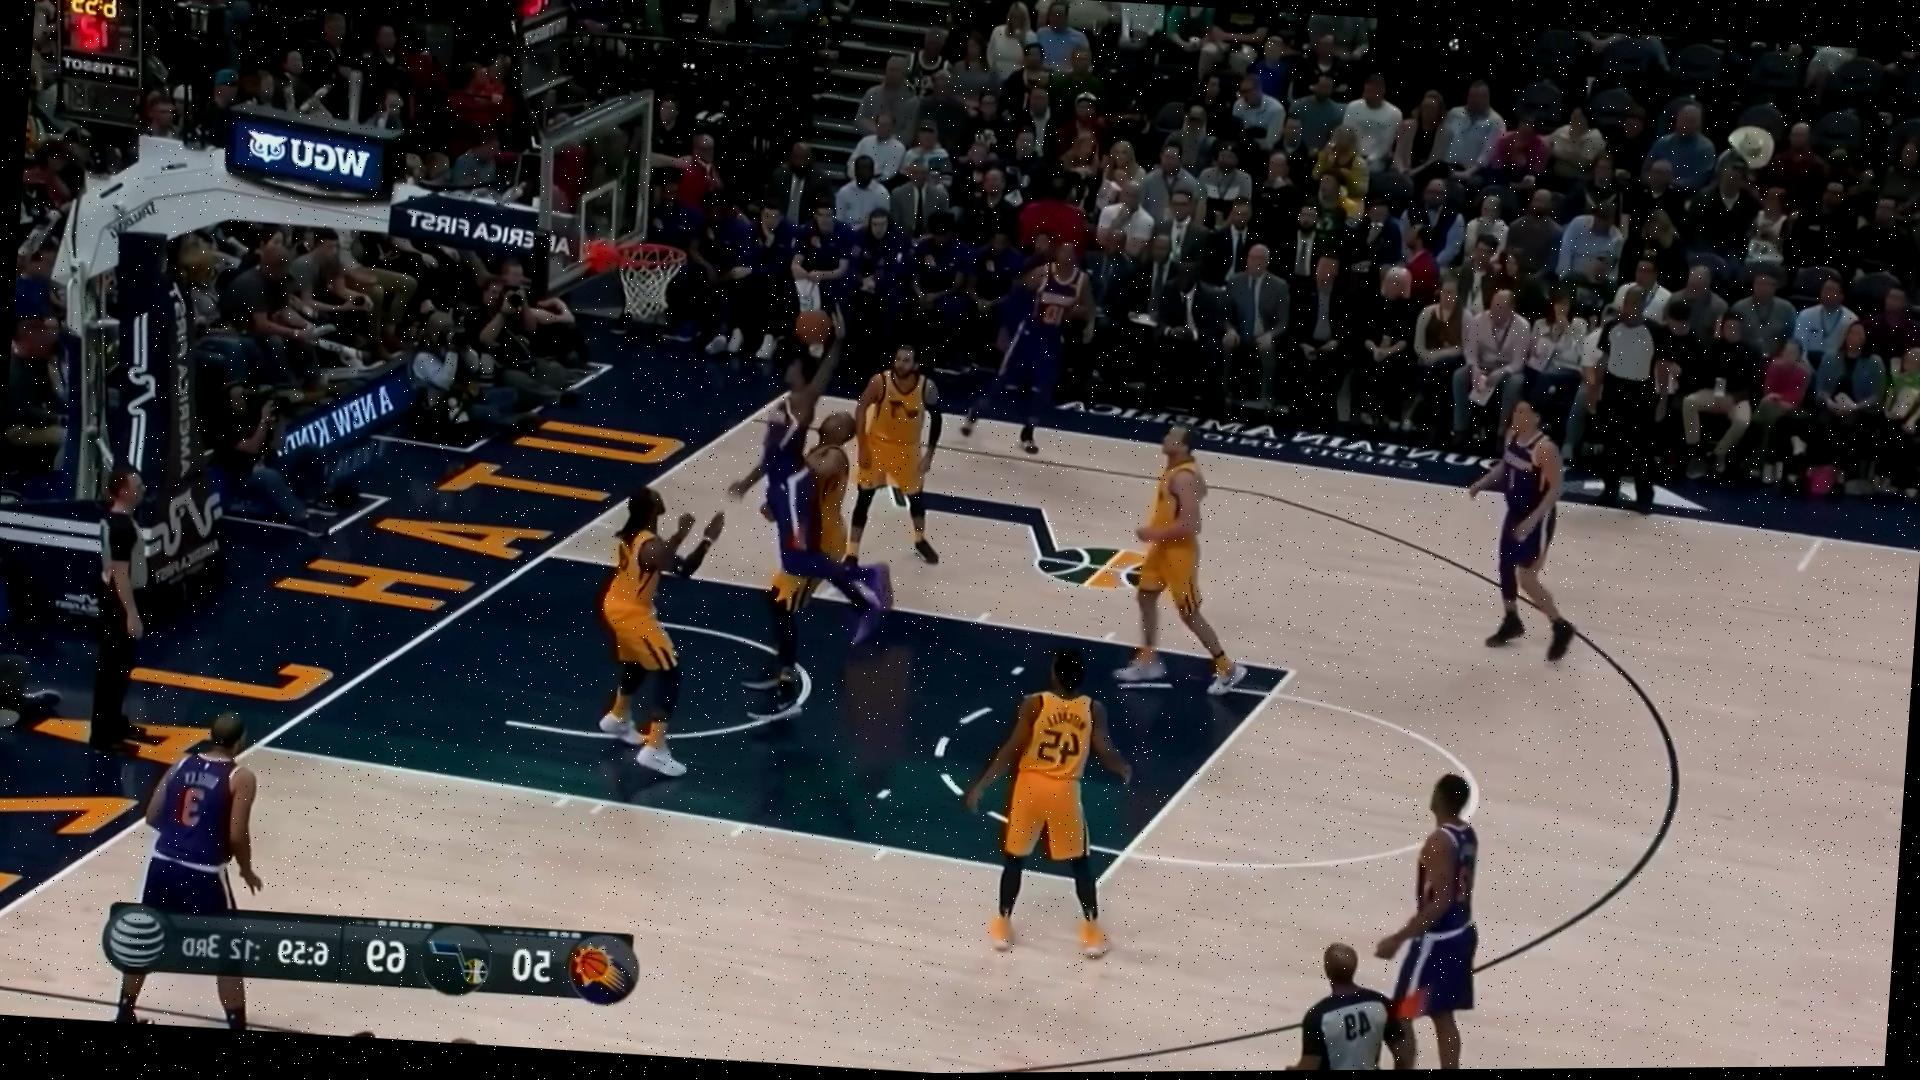foul: (712, 320, 903, 688)
